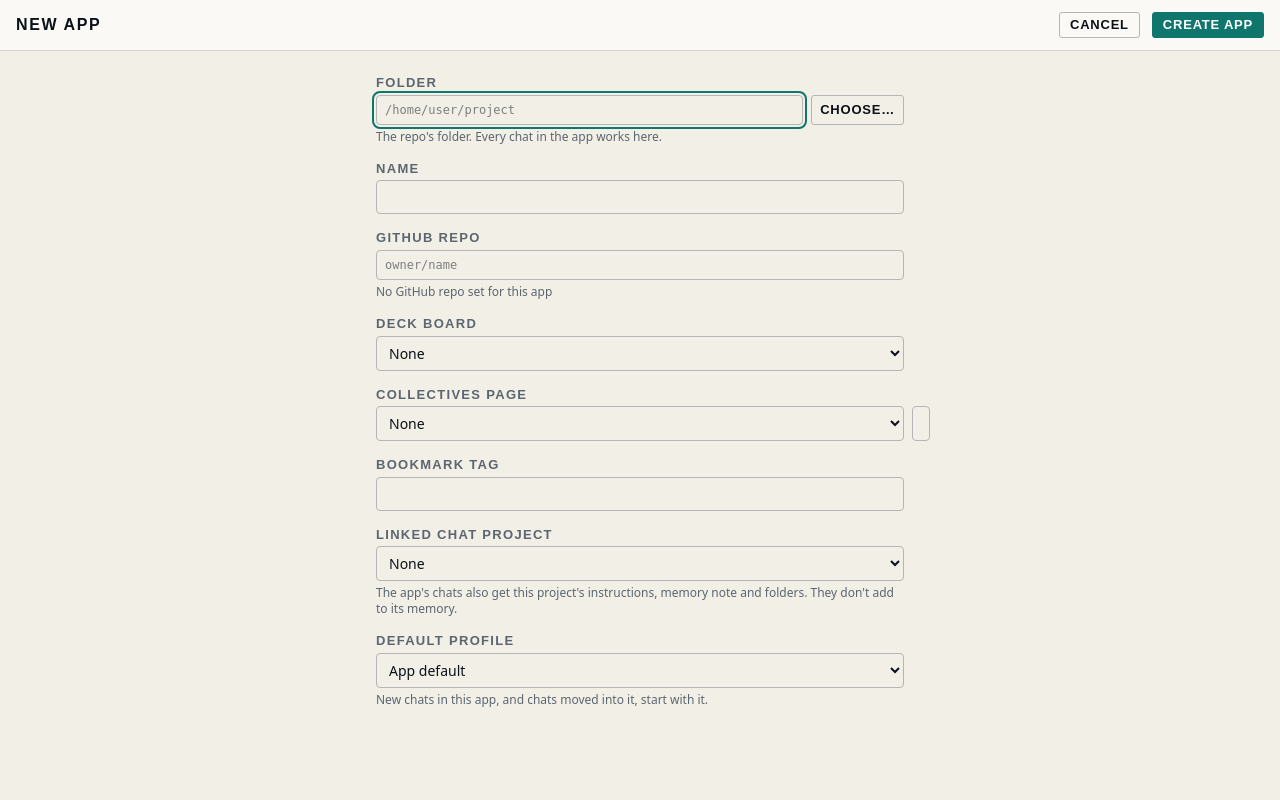
AppView, creating (spec 2026-10-20-code-tab-design, "Creating an app") › asks for a folder, and a valid GitHub repo, before sending anything
The width and height of the screenshot is (1280, 800).
Type "X" into the field labelled "Name".
click(640, 197); type("X")  # box top-left (376, 180), bottom-right (904, 214)
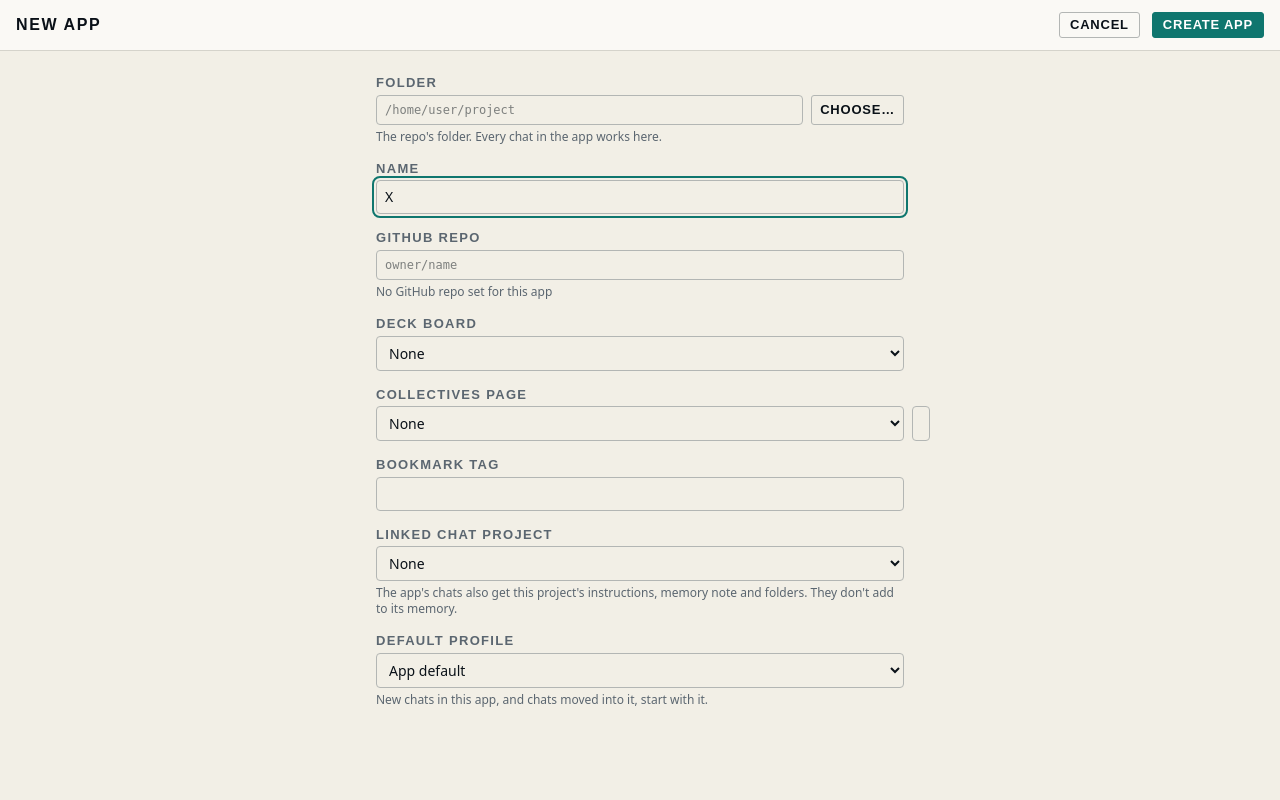
Click the button "Create app".
click(1208, 25)  # box top-left (1152, 12), bottom-right (1264, 38)
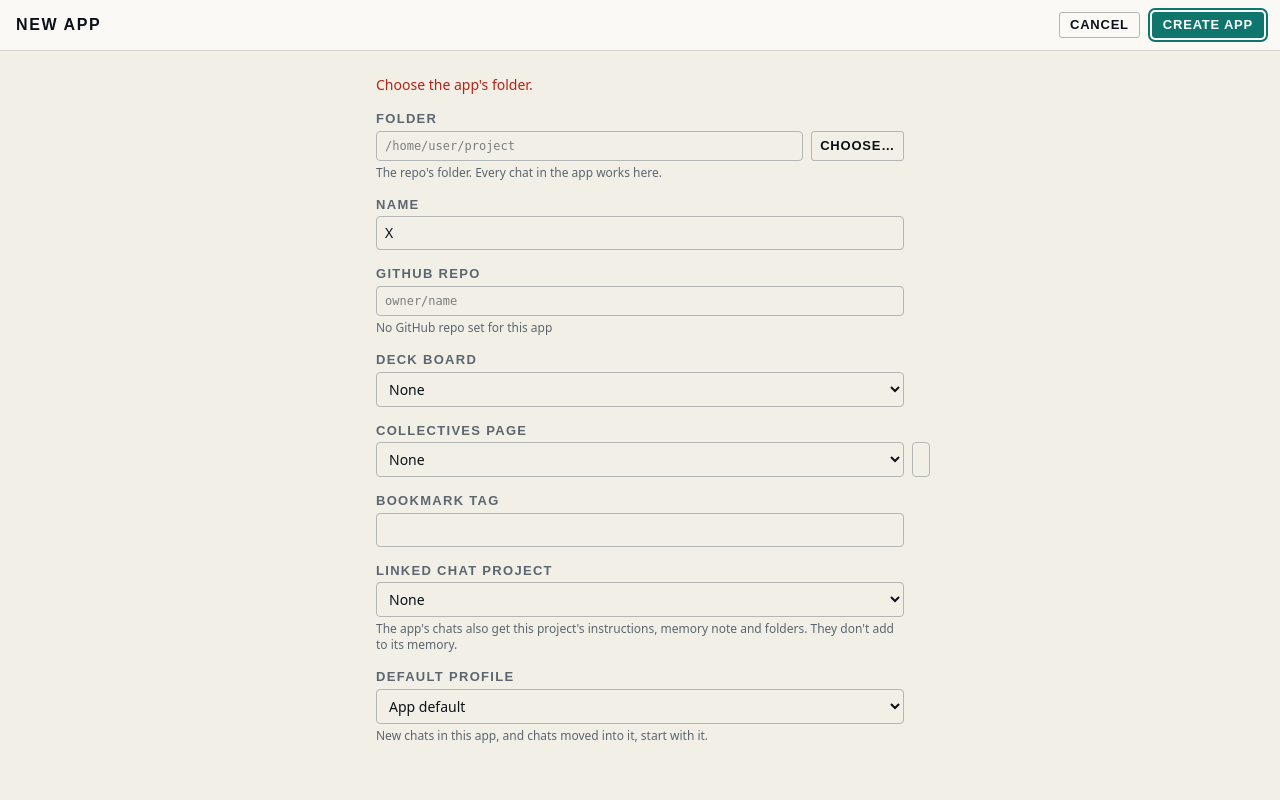
Now the message reads "Choose the app's folder.", box top-left (376, 75), bottom-right (533, 94)
Type "/home/x" into the field labelled "Folder".
click(590, 146); type("/home/x")  # box top-left (376, 131), bottom-right (803, 161)
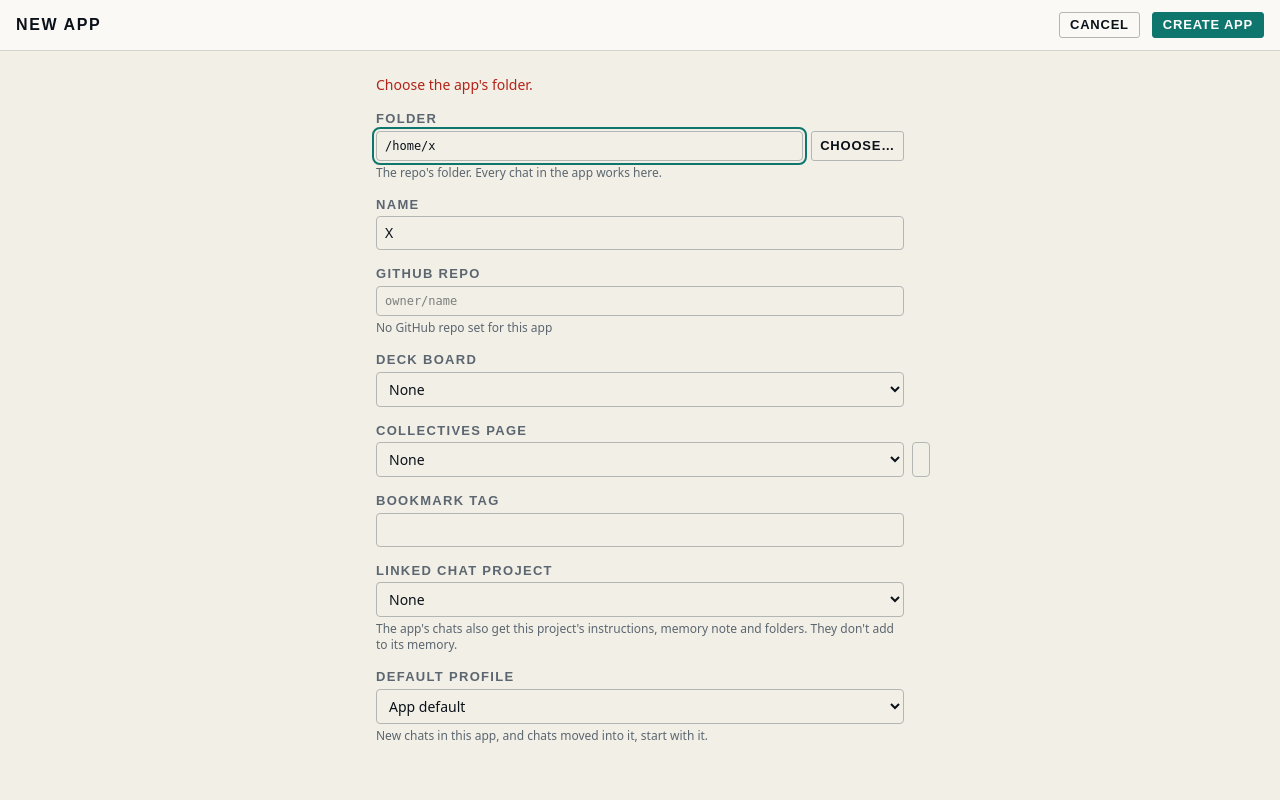
Type "not a repo" into the field labelled "GitHub repo".
click(640, 301); type("not a repo")  # box top-left (376, 286), bottom-right (904, 316)
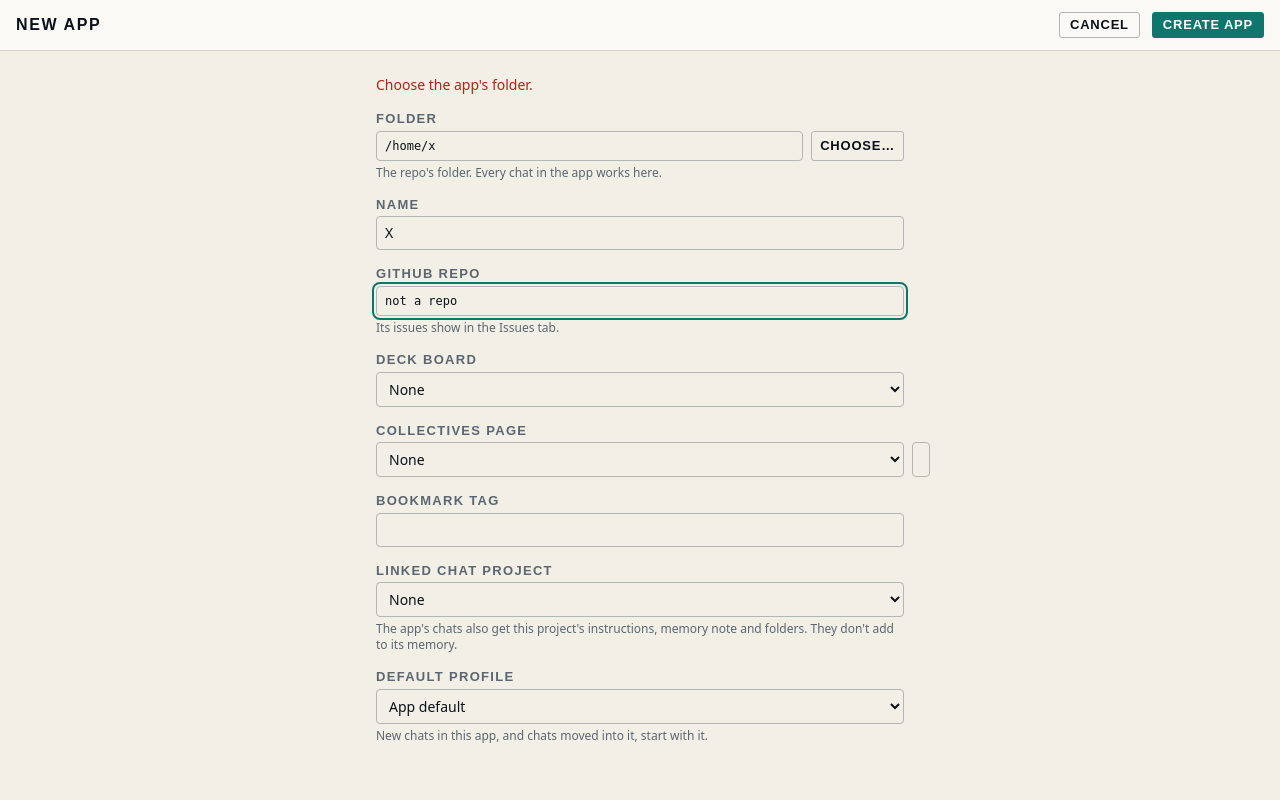
Click the button "Create app".
click(1208, 25)  # box top-left (1152, 12), bottom-right (1264, 38)
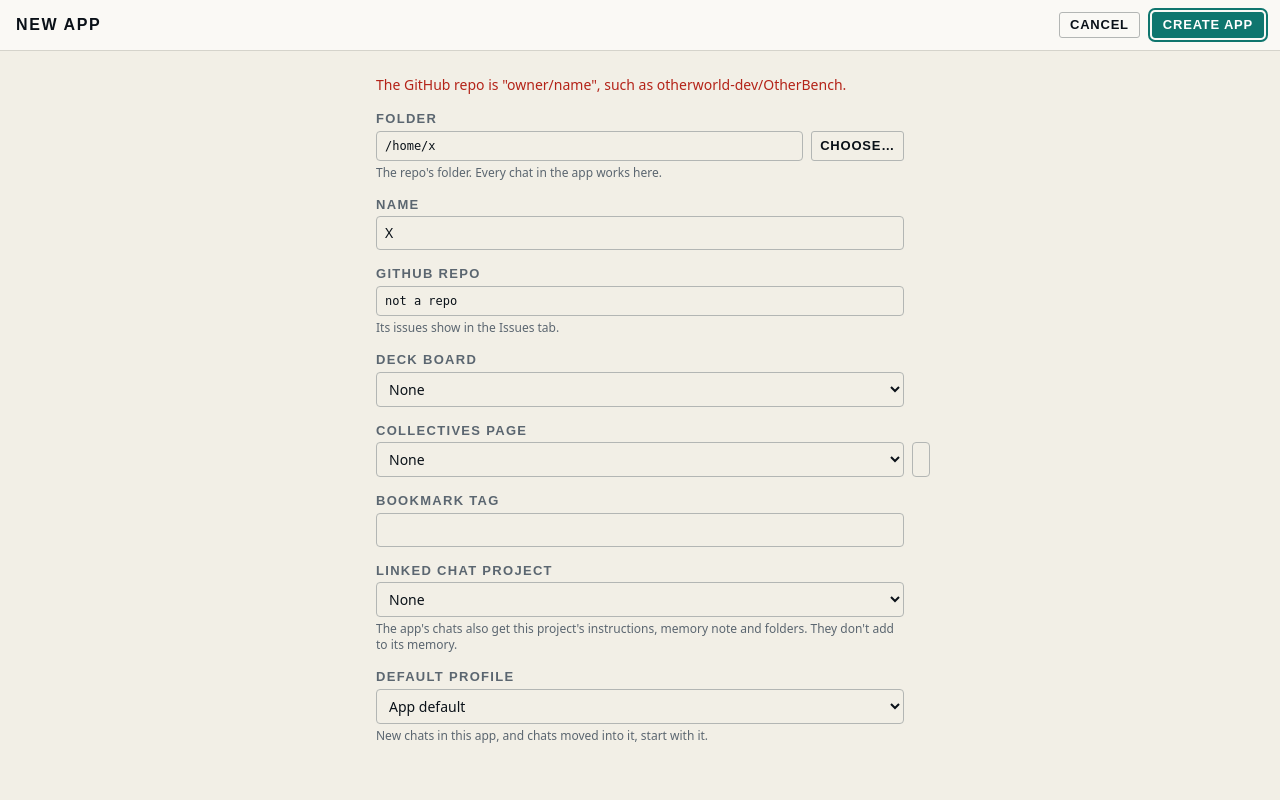
Now the message shows "owner/name", box top-left (376, 75), bottom-right (846, 94)
